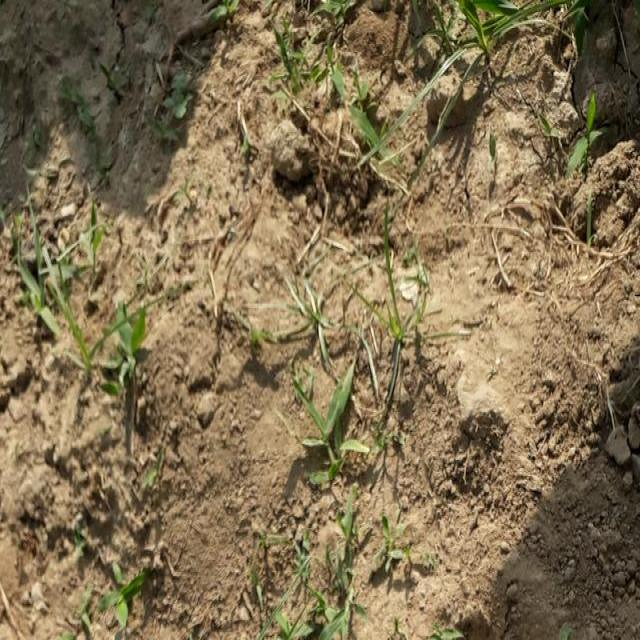weed: (249, 258, 366, 640), (264, 20, 441, 169), (12, 230, 144, 383)
